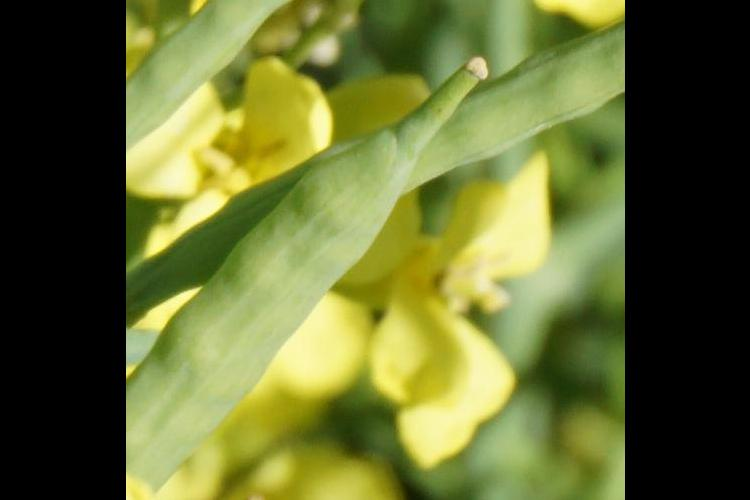pod: (205, 61, 489, 428)
yellow: (394, 190, 547, 410)
